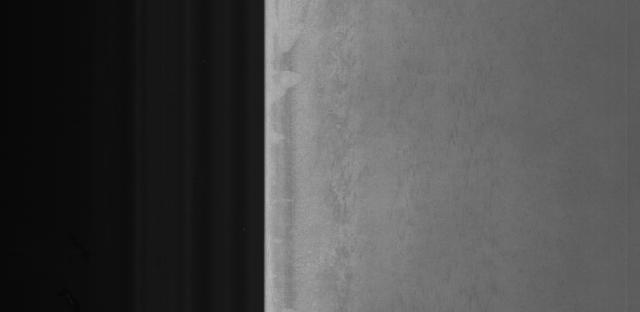silk_spot: (324, 51, 378, 294)
